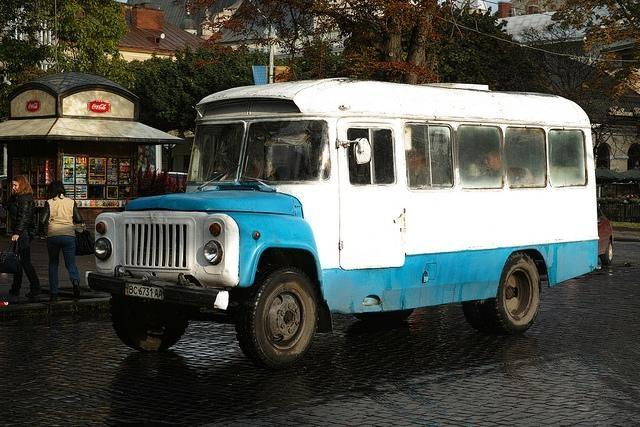bus: (86, 79, 598, 372)
car: (598, 205, 614, 264)
truck: (87, 77, 598, 370)
